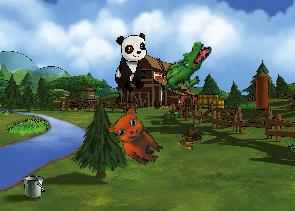bear: (102, 103, 173, 170)
crocodile: (159, 34, 213, 102)
panda: (115, 33, 147, 93)
